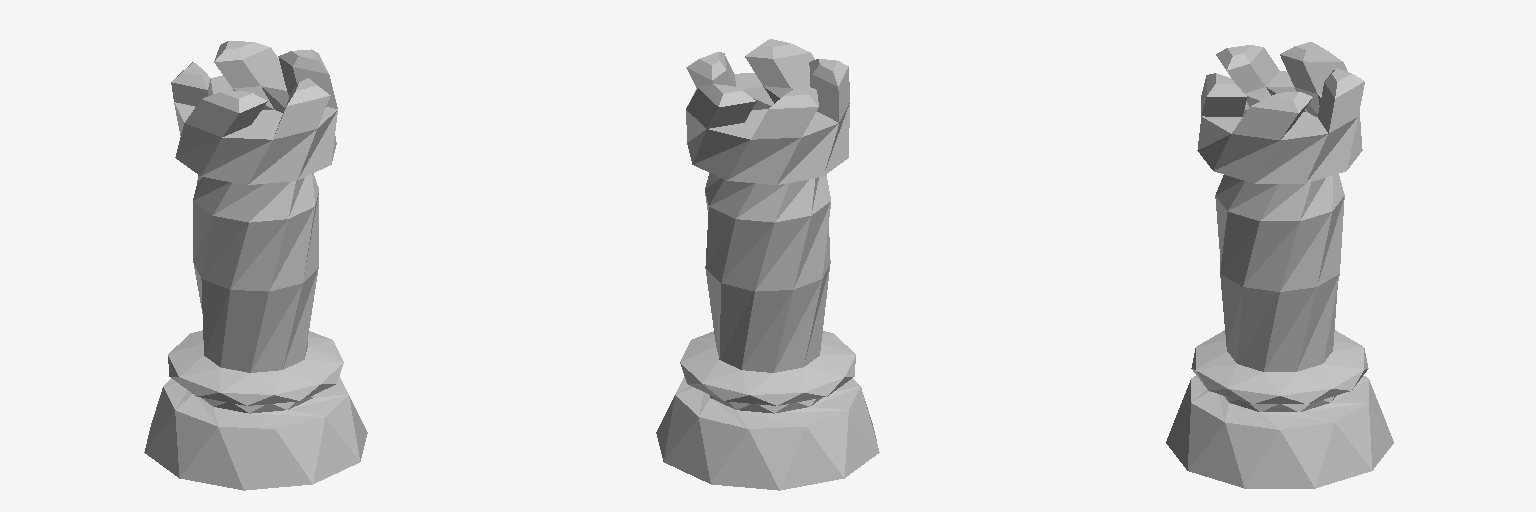
Rendered from Rook.obj.
3 renders of one model, left to right at view 1: azimuth 30°, elevation 25°; view 2: azimuth 150°, elevation 25°; view 3: azimuth 270°, elevation 25°, orthographic.
Parts seen in each view (by area): view 1: Icosphere.003; view 2: Icosphere.003; view 3: Icosphere.003.
Boxes of the visible parts, box(x1,y1,x2,y2) form: Icosphere.003: box(144, 41, 367, 490); Icosphere.003: box(656, 39, 879, 490); Icosphere.003: box(1166, 42, 1393, 488).
Bounding box in the file's own units: 0.7989 × 1.51 × 0.84.